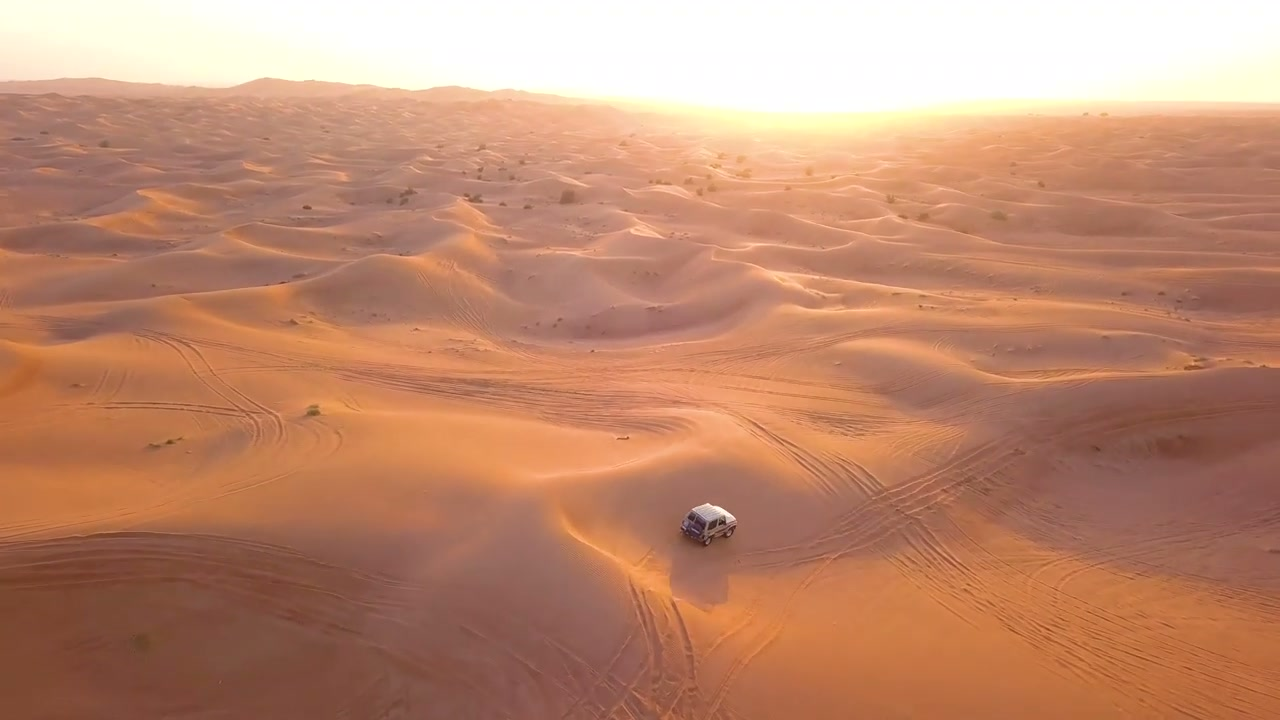vehicle_track: (767, 399, 1279, 716), (0, 531, 497, 716), (754, 399, 1276, 564), (895, 513, 1279, 717), (0, 332, 343, 539), (181, 338, 696, 432), (0, 532, 412, 629), (1027, 510, 1279, 616), (334, 366, 694, 431), (700, 560, 832, 718), (560, 580, 701, 719), (138, 331, 284, 448), (721, 407, 882, 496), (84, 400, 243, 418), (0, 286, 11, 311)
